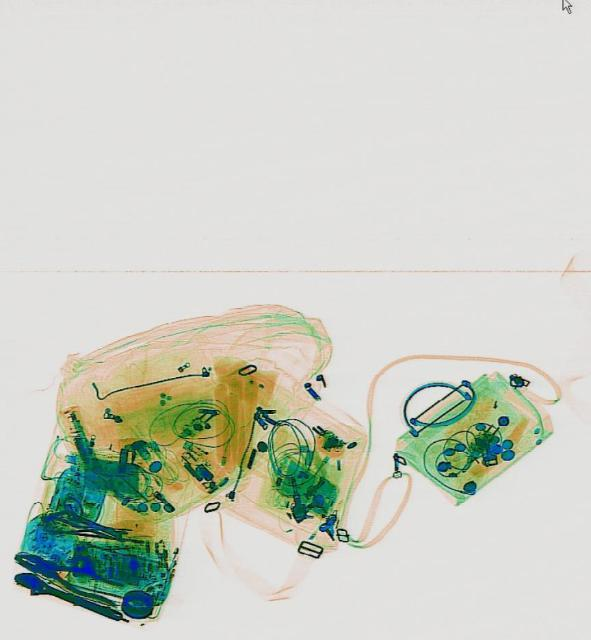Pliers: (9, 544, 123, 606)
Wrench: (8, 564, 125, 628)
